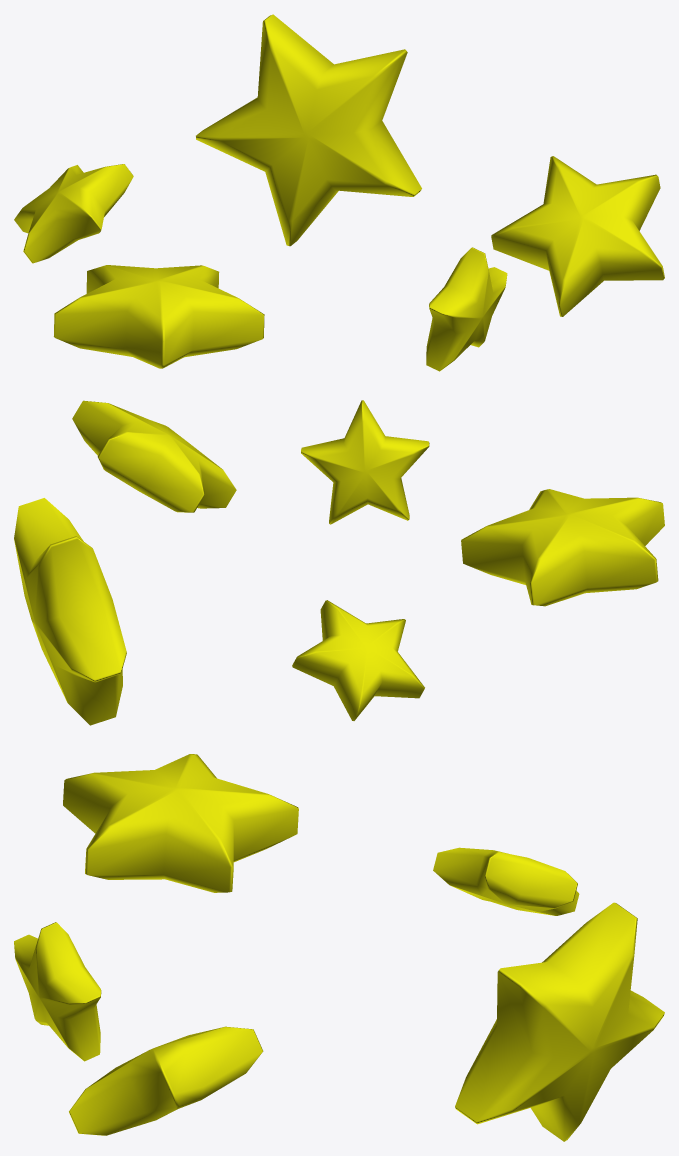
File: stun anim.fbx
The picture shows the model from 3 angles, top to bottom: view 1: azimuth 30°, elevation 25°; view 2: azimuth 150°, elevation 25°; view 3: azimuth 270°, elevation 25°; orthographic projection. The views are drawn at different scales.
Parts seen in each view (by area): view 1: etoile_3, etoile_1, etoile_4, etoile_2, etoile_5; view 2: etoile_1, etoile_3, etoile_4, etoile_2, etoile_5; view 3: etoile_3, etoile_1, etoile_4, etoile_5, etoile_2.
Boxes of the visible parts, box(x1,y1,x2,y2) form: etoile_3: box(196, 14, 421, 246); etoile_1: box(53, 265, 264, 368); etoile_4: box(491, 156, 664, 316); etoile_2: box(14, 164, 133, 263); etoile_5: box(426, 247, 507, 371); etoile_1: box(461, 489, 664, 606); etoile_3: box(14, 498, 126, 725); etoile_4: box(72, 400, 236, 512); etoile_2: box(292, 600, 424, 720); etoile_5: box(301, 400, 429, 524); etoile_3: box(455, 902, 664, 1141); etoile_1: box(63, 754, 298, 892); etoile_4: box(69, 1026, 263, 1135); etoile_5: box(14, 922, 101, 1061); etoile_2: box(433, 847, 579, 915).
Bounding box in the file's own units: 1196 × 397 × 1000.
